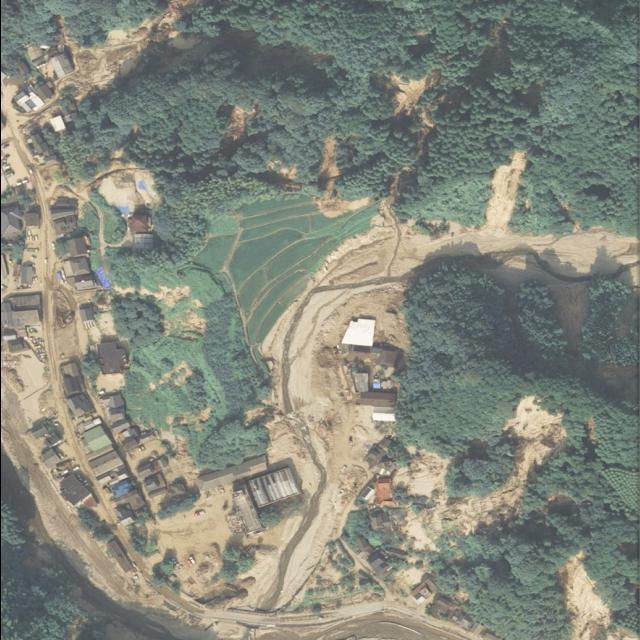landslide: (197, 155, 638, 620), (394, 397, 564, 551), (55, 0, 197, 100), (558, 556, 639, 640), (157, 501, 229, 555), (389, 74, 434, 114)
